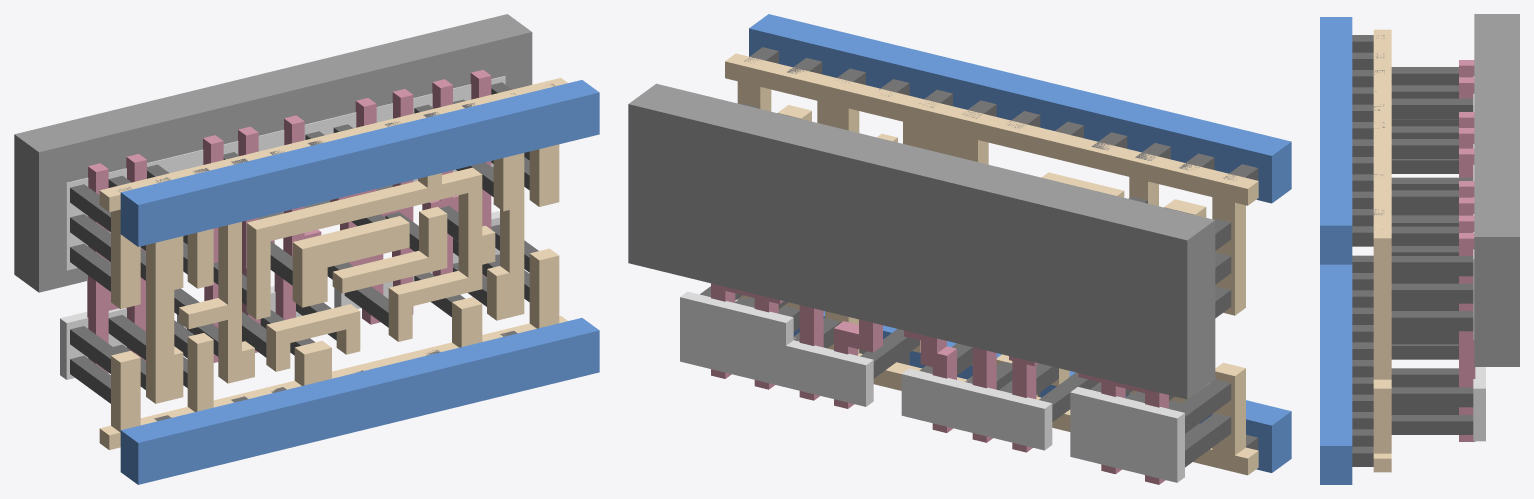
File: sky130_fd_sc_hd__ha_2.gds.gltf
The picture shows the model from 3 angles, left to right: view 1: azimuth 30°, elevation 25°; view 2: azimuth 150°, elevation 25°; view 3: azimuth 270°, elevation 25°; orthographic projection. The views are drawn at different scales.
Parts seen in each view (by area): view 1: sky130_fd_sc_hd__ha_2_li1, sky130_fd_sc_hd__ha_2_met1, sky130_fd_sc_hd__ha_2_nwell, sky130_fd_sc_hd__ha_2_licon, sky130_fd_sc_hd__ha_2_poly, sky130_fd_sc_hd__ha_2_diff, sky130_fd_sc_hd__ha_2_mcon; view 2: sky130_fd_sc_hd__ha_2_nwell, sky130_fd_sc_hd__ha_2_li1, sky130_fd_sc_hd__ha_2_diff, sky130_fd_sc_hd__ha_2_met1, sky130_fd_sc_hd__ha_2_licon, sky130_fd_sc_hd__ha_2_poly, sky130_fd_sc_hd__ha_2_mcon; view 3: sky130_fd_sc_hd__ha_2_licon, sky130_fd_sc_hd__ha_2_nwell, sky130_fd_sc_hd__ha_2_met1, sky130_fd_sc_hd__ha_2_mcon, sky130_fd_sc_hd__ha_2_li1, sky130_fd_sc_hd__ha_2_poly, sky130_fd_sc_hd__ha_2_diff.
Part boxes in pixels (left/top/right/bottom): sky130_fd_sc_hd__ha_2_li1: left=99, top=78, right=567, bottom=450; sky130_fd_sc_hd__ha_2_met1: left=120, top=80, right=599, bottom=484; sky130_fd_sc_hd__ha_2_nwell: left=14, top=14, right=532, bottom=292; sky130_fd_sc_hd__ha_2_licon: left=70, top=82, right=538, bottom=403; sky130_fd_sc_hd__ha_2_poly: left=87, top=70, right=491, bottom=373; sky130_fd_sc_hd__ha_2_diff: left=60, top=76, right=505, bottom=379; sky130_fd_sc_hd__ha_2_mcon: left=116, top=84, right=555, bottom=421; sky130_fd_sc_hd__ha_2_nwell: left=628, top=83, right=1215, bottom=399; sky130_fd_sc_hd__ha_2_li1: left=725, top=53, right=1258, bottom=475; sky130_fd_sc_hd__ha_2_diff: left=680, top=291, right=1184, bottom=482; sky130_fd_sc_hd__ha_2_met1: left=749, top=14, right=1291, bottom=472; sky130_fd_sc_hd__ha_2_licon: left=700, top=103, right=1231, bottom=467; sky130_fd_sc_hd__ha_2_poly: left=711, top=283, right=1168, bottom=484; sky130_fd_sc_hd__ha_2_mcon: left=744, top=47, right=1258, bottom=450; sky130_fd_sc_hd__ha_2_licon: left=1391, top=67, right=1473, bottom=434; sky130_fd_sc_hd__ha_2_nwell: left=1474, top=14, right=1519, bottom=366; sky130_fd_sc_hd__ha_2_met1: left=1320, top=17, right=1352, bottom=484; sky130_fd_sc_hd__ha_2_mcon: left=1352, top=35, right=1384, bottom=466; sky130_fd_sc_hd__ha_2_li1: left=1373, top=29, right=1391, bottom=472; sky130_fd_sc_hd__ha_2_poly: left=1459, top=60, right=1475, bottom=441; sky130_fd_sc_hd__ha_2_diff: left=1473, top=76, right=1485, bottom=441.
Size of the model in its own units: 5.9 by 3.2 by 2.24.
